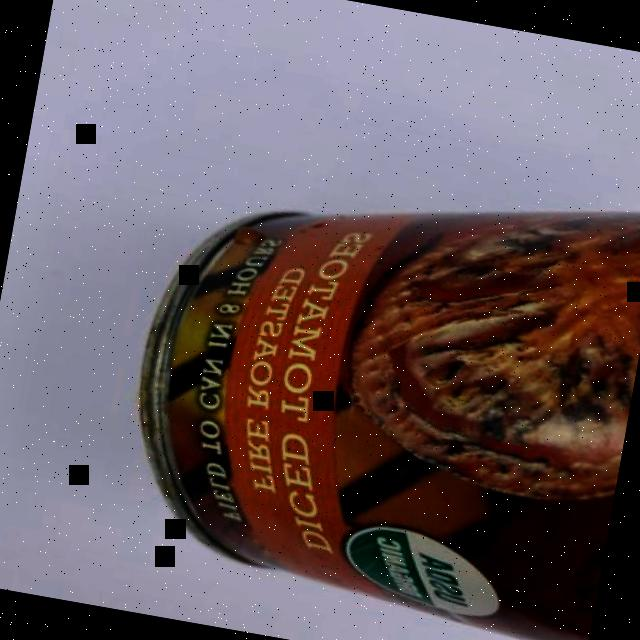can: (96, 121, 640, 640)
